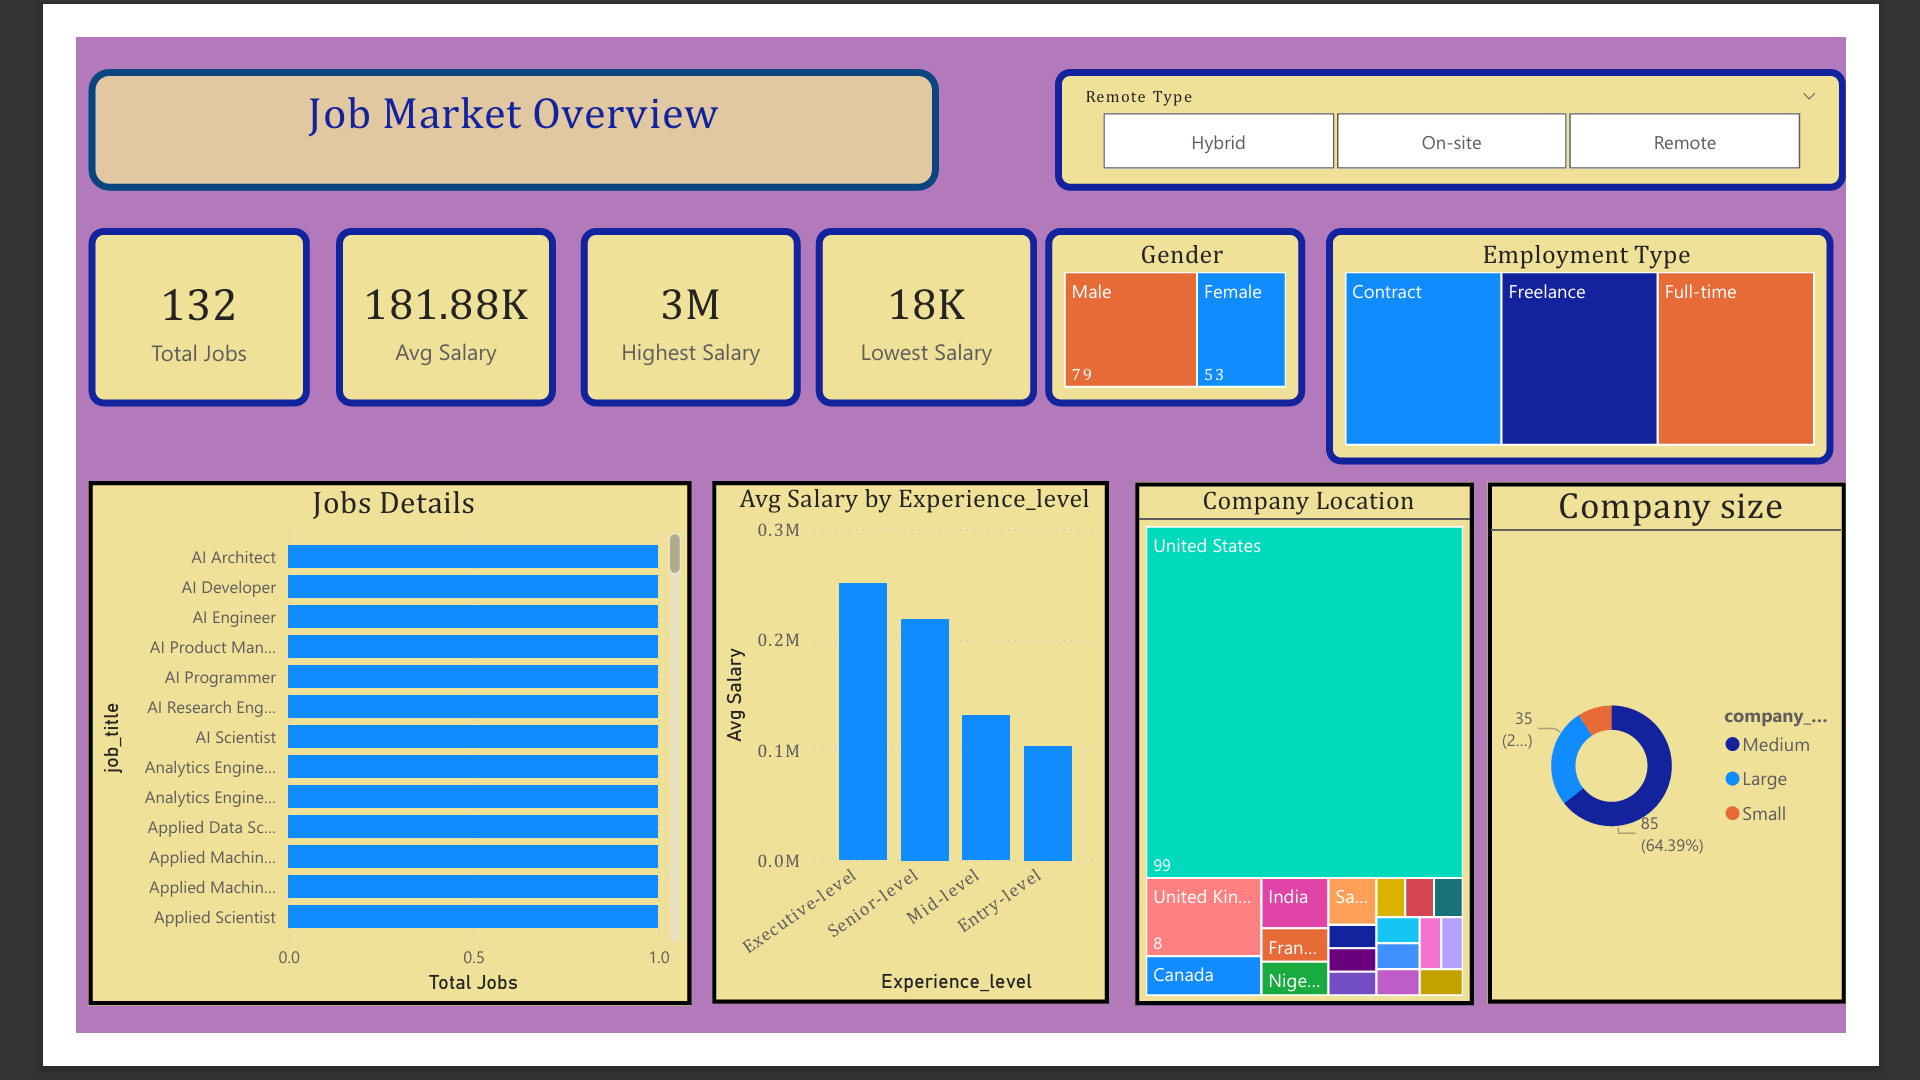

This screenshot's page, from the dashboard's own definition file:
{"tool":"powerbi","page":{"name":"Page 1","canvas":[1280,720],"ordinal":0},"visuals":[{"type":"card","fields":{"Values":["data_science_salaries.Total Jobs"]},"box":[8.5,138,160,129.4],"z":0},{"type":"card","fields":{"Values":["data_science_salaries.Avg Salary"]},"box":[188.1,138,158.8,129.4],"z":1},{"type":"card","fields":{"Values":["data_science_salaries.Highest Salary"]},"box":[365.1,138,158.8,129.4],"z":2},{"type":"card","fields":{"Values":["data_science_salaries.Lowest Salary"]},"box":[534.9,138,160,129.4],"z":3},{"type":"treemap","title":"Gender","fields":{"Group":["data_science_salaries.Gender"],"Values":["CountNonNull(data_science_salaries.Gender)"]},"box":[701,138,188.1,129.4],"z":4},{"type":"clusteredBarChart","title":"Jobs Details ","fields":{"Category":["data_science_salaries.job_title"],"Y":["data_science_salaries.Total Jobs"]},"box":[8.5,321.2,436,378.6],"z":5},{"type":"columnChart","fields":{"Category":["data_science_salaries.experience_level"],"Y":["data_science_salaries.Avg Salary"]},"box":[460.4,321.2,287,377.4],"z":6},{"type":"treemap","title":"Company Location ","fields":{"Group":["data_science_salaries.company_location"],"Values":["CountNonNull(data_science_salaries.company_location)"]},"box":[765.7,322.4,245.5,377.4],"z":7},{"type":"textbox","box":[8.5,23.2,615.5,87.9],"z":8},{"type":"donutChart","title":"Company size","fields":{"Y":["CountNonNull(data_science_salaries.company_size)"],"Category":["data_science_salaries.company_size"]},"box":[1020.9,322.4,258.9,376.1],"z":9},{"type":"slicer","title":"Gender","fields":{"Values":["data_science_salaries.Remote Type"]},"box":[708.3,23.2,571.5,87.9],"z":10},{"type":"treemap","title":"Employment Type","fields":{"Values":["Count(data_science_salaries.employment_type)"],"Group":["data_science_salaries.employment_type"]},"box":[903.7,138,367.6,171],"z":11}]}

Visuals, with their boxes in screenshot pixels (x1, y1, x2, y2), scaled from the page's 1280x720 canvas onto the 1920x1080 screenshot:
card - data_science_salaries.Total Jobs: bbox(13, 207, 253, 401)
card - data_science_salaries.Avg Salary: bbox(282, 207, 520, 401)
card - data_science_salaries.Highest Salary: bbox(548, 207, 786, 401)
card - data_science_salaries.Lowest Salary: bbox(802, 207, 1042, 401)
"Gender" treemap: bbox(1052, 207, 1334, 401)
"Jobs Details " clusteredBarChart: bbox(13, 482, 667, 1050)
columnChart - data_science_salaries.experience_level x data_science_salaries.Avg Salary: bbox(691, 482, 1121, 1048)
"Company Location " treemap: bbox(1149, 484, 1517, 1050)
textbox: bbox(13, 35, 936, 167)
"Company size" donutChart: bbox(1531, 484, 1919, 1048)
"Gender" slicer: bbox(1062, 35, 1919, 167)
"Employment Type" treemap: bbox(1356, 207, 1907, 464)
